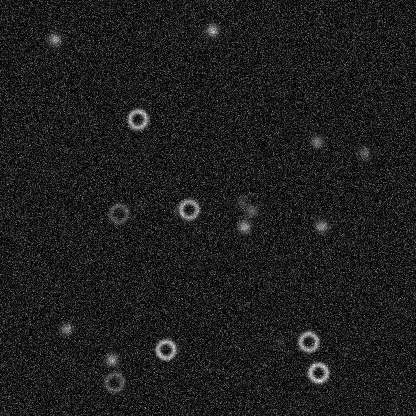Ring: (296, 329, 320, 353), (106, 201, 130, 225), (153, 337, 177, 361), (176, 197, 200, 221), (306, 360, 330, 384), (125, 107, 149, 131), (102, 369, 126, 393)
Spot: (233, 193, 249, 209), (169, 202, 185, 218), (46, 31, 62, 47), (58, 320, 74, 336), (271, 334, 287, 350), (243, 202, 259, 218), (103, 351, 119, 367), (204, 22, 220, 38), (313, 217, 329, 233), (236, 218, 252, 234), (308, 133, 324, 149), (355, 144, 371, 160)
